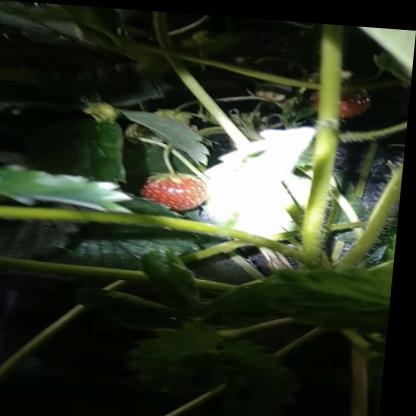ripe: (306, 70, 379, 118), (147, 166, 222, 208)
